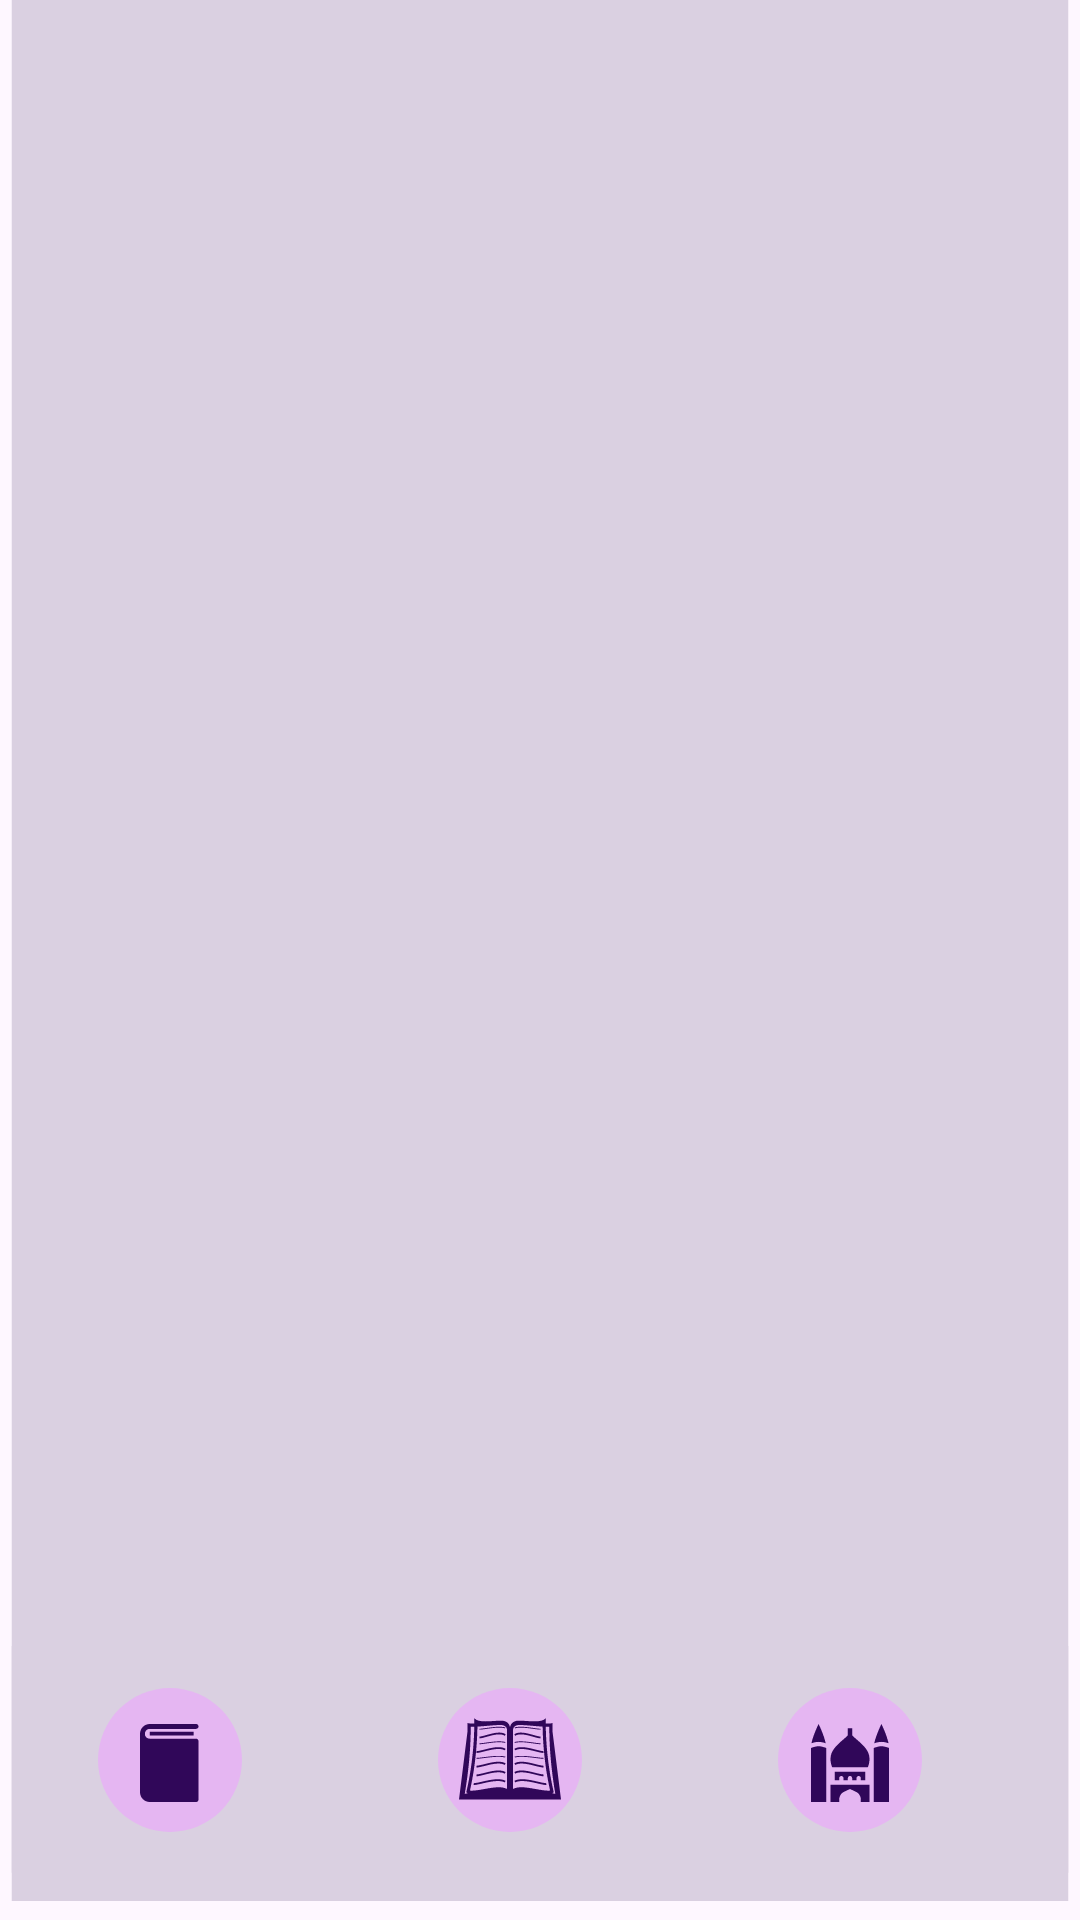

Icons on this 1080*1920 Android screen, each with the point to tap as [x,y]:
book: [170,1760]
mosque: [850,1760]
quran: [510,1760]
